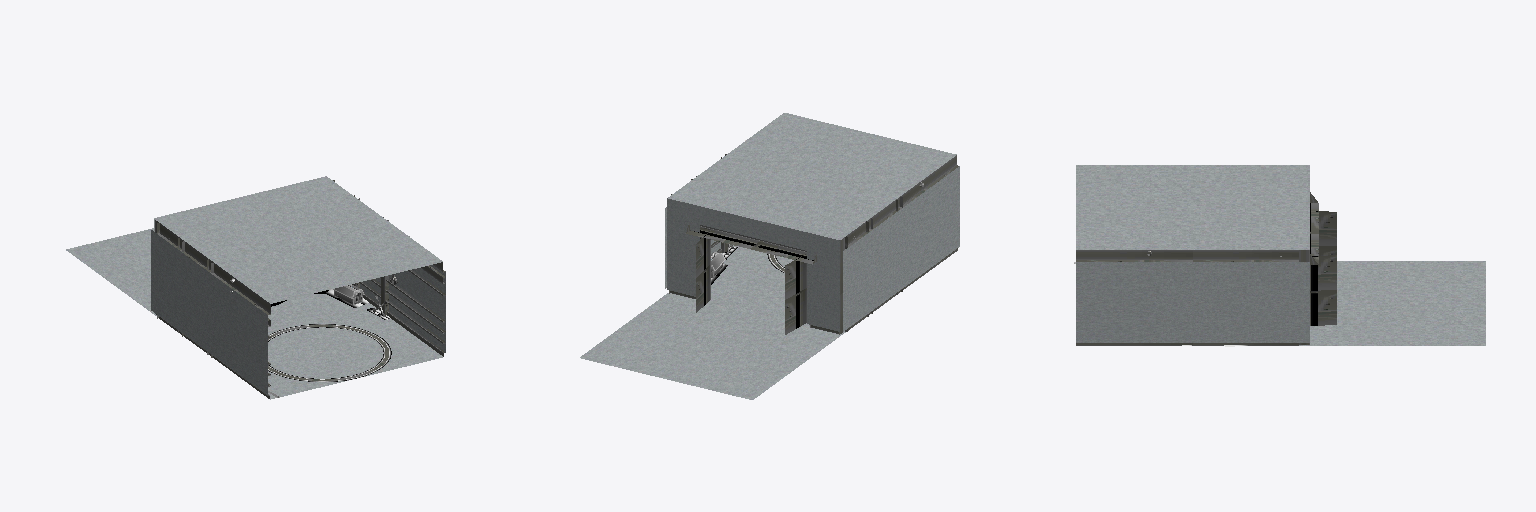
The picture shows the model from 3 angles: view 1: azimuth 30°, elevation 25°; view 2: azimuth 150°, elevation 25°; view 3: azimuth 270°, elevation 25°; orthographic projection.
Parts seen in each view (by area): view 1: mesh_6_floor, mesh_4_fan_body, mesh_5_TurnTable_kage; view 2: mesh_6_floor, mesh_4_fan_body; view 3: mesh_6_floor, mesh_4_fan_body.
Boxes of the visible parts, x1,y1,x2,y2 form: mesh_6_floor: [66, 176, 445, 399]; mesh_4_fan_body: [155, 180, 445, 398]; mesh_5_TurnTable_kage: [268, 324, 391, 381]; mesh_6_floor: [580, 113, 959, 399]; mesh_4_fan_body: [669, 154, 958, 334]; mesh_6_floor: [1076, 165, 1485, 345]; mesh_4_fan_body: [1076, 192, 1336, 345].
Size of the model in its own units: 70.87 by 36.1 by 141.
Materials: 8 (7 with a texture image).